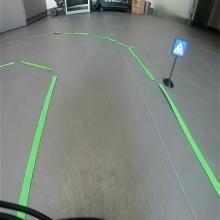crosswalk: (170, 38, 188, 58)
